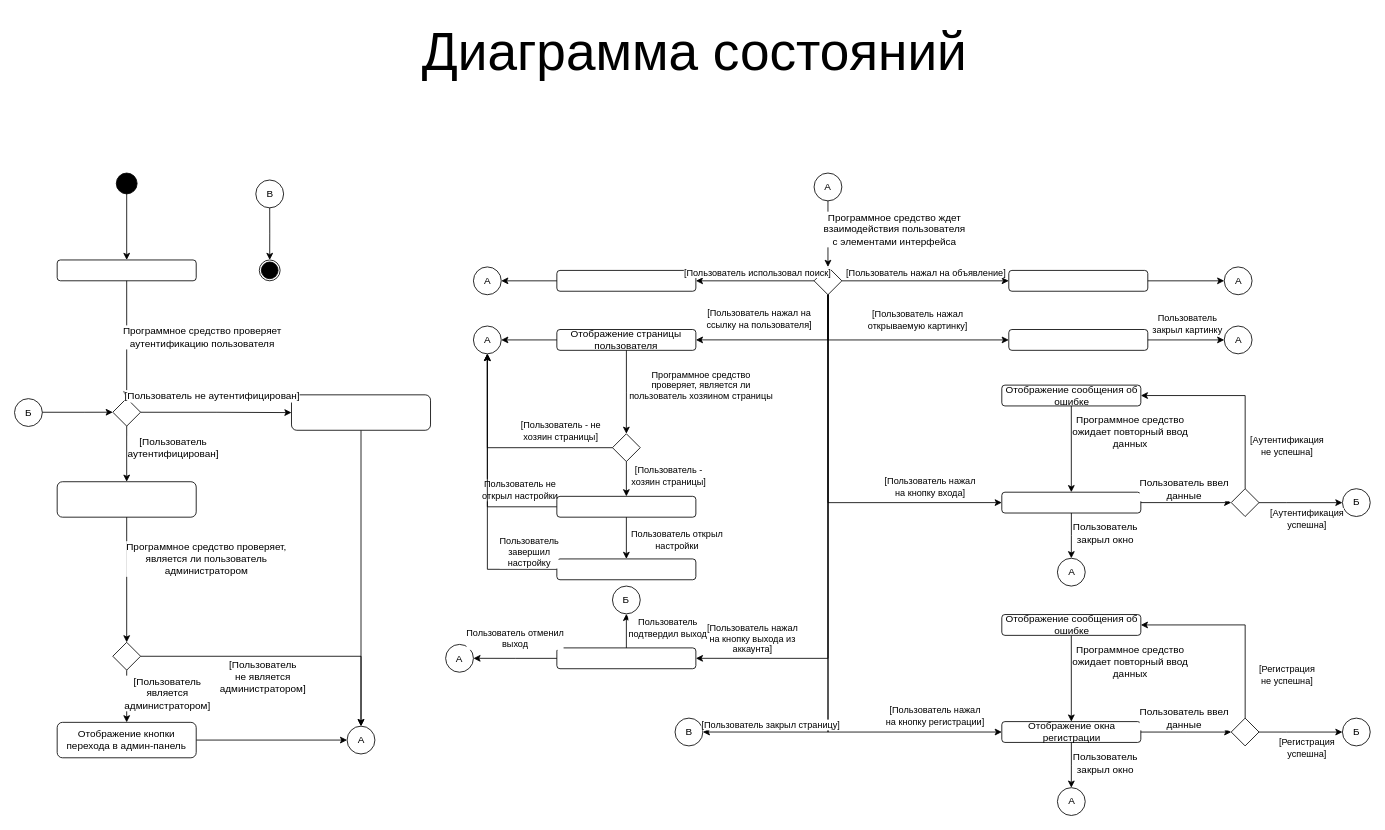
The diagram is 1385 pixels wide and 830 high, and some of its shapes have lost their labels. The shapes that lost their labels are listed below. From the top down, each one's centre as x and y in pixels, then its label:
At point (126, 270): "Отображение главной страницы".
At point (626, 280): "Отображение страницы результатов поиска".
At point (1078, 280): "Отображение страницы объявления".
At point (1078, 339): "Отображение картинки на весь экран".
At point (361, 412): "Отображение кнопок входа и регистрации в хедере".
At point (126, 499): "Отображение меню аутентифицированного пользователя в хедере".
At point (626, 506): "Отображение элементов управления аккаунтом".
At point (1071, 502): "Отображение окна входа".
At point (626, 569): "Отображение окна настроек".
At point (626, 658): "Отображение окна с подтверждением".
